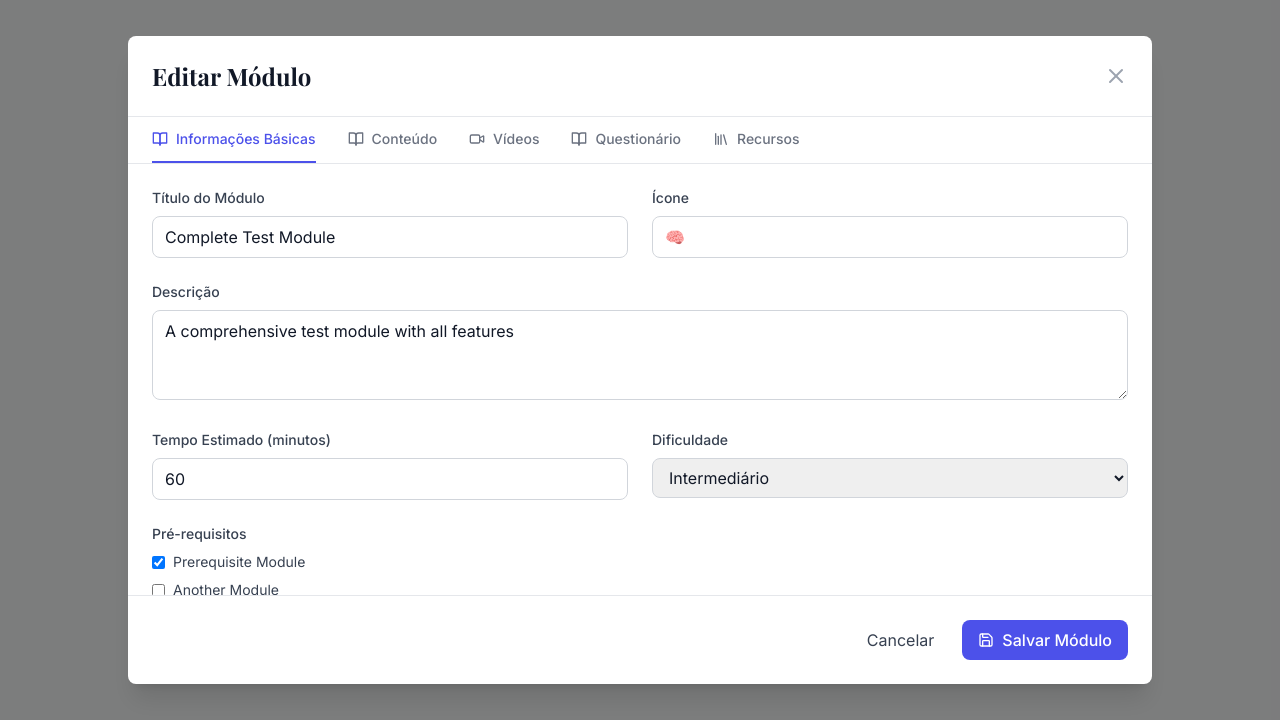
Scenario: ModuleEditor - Enhanced Coverage › Tab Navigation and Content › maintains tab state during form interactions
// Go to videos tab and interact
Click the button "Vídeos" at x=504, y=140, box [469,117,539,163]
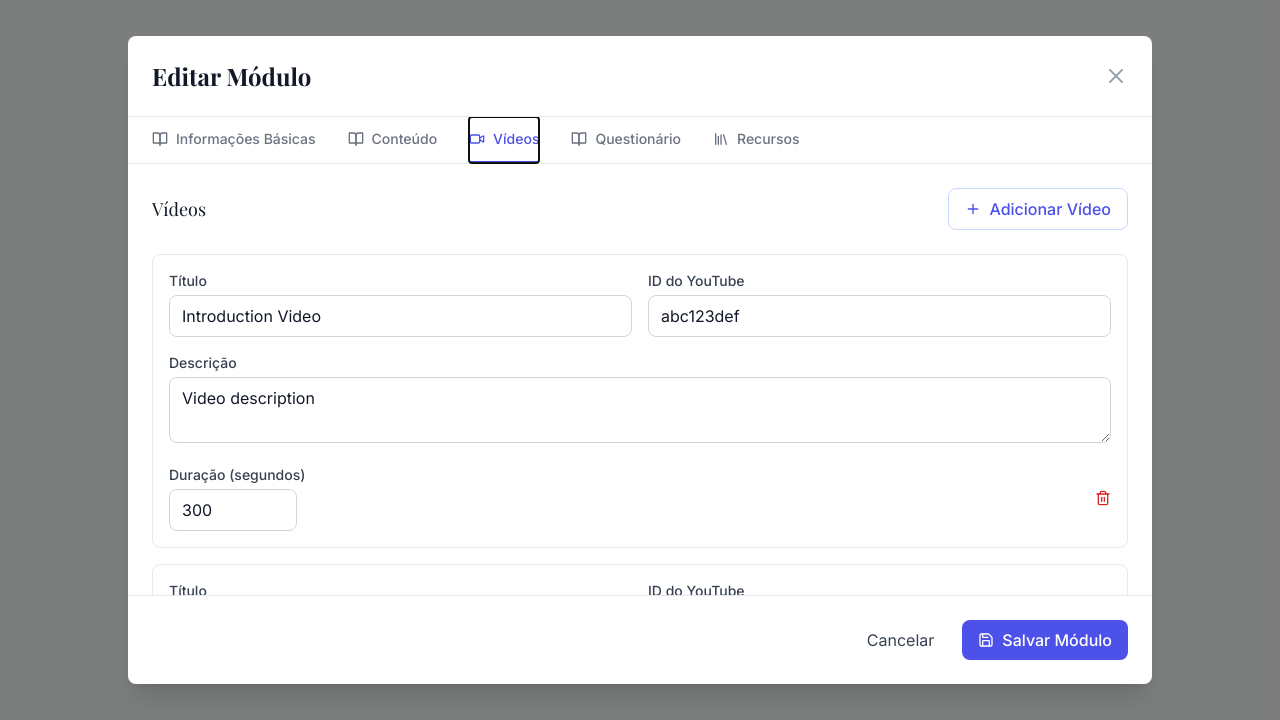
Click the button "Adicionar Vídeo" at x=1038, y=209, box [948,188,1128,230]
(page scrolled)
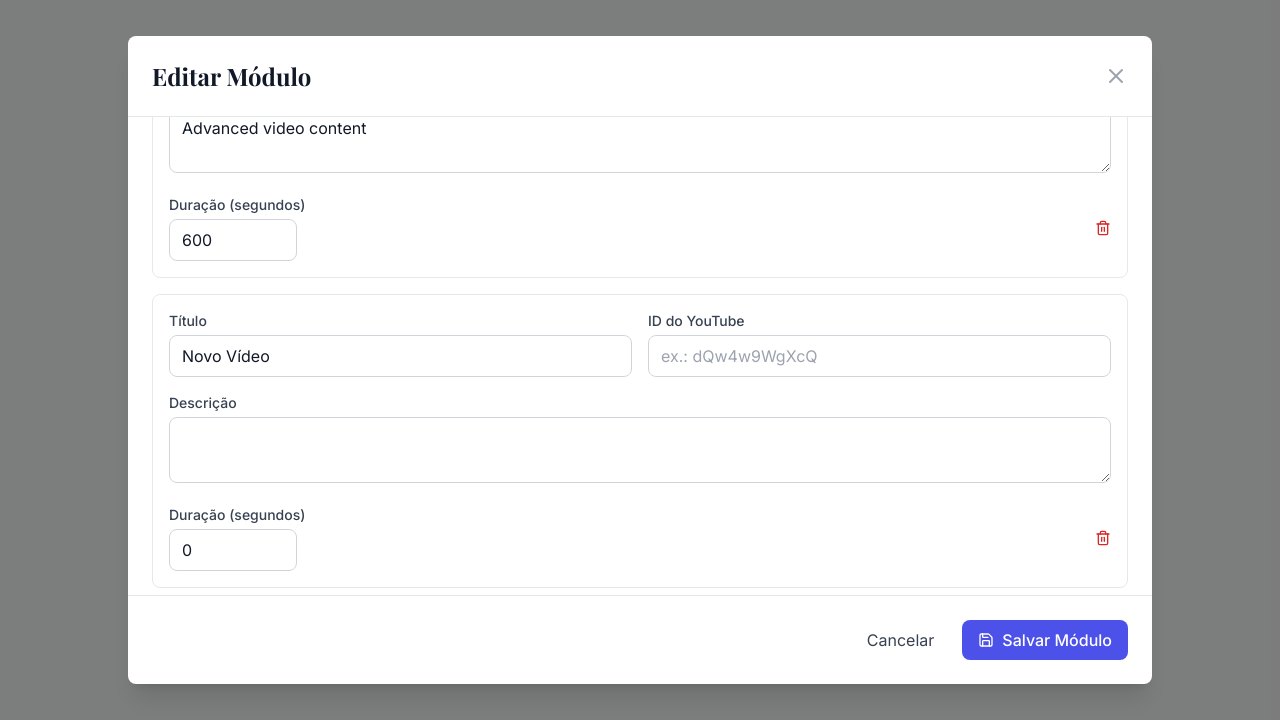
Now the field showing "Novo Vídeo" is shown, box [169,335,632,377]
